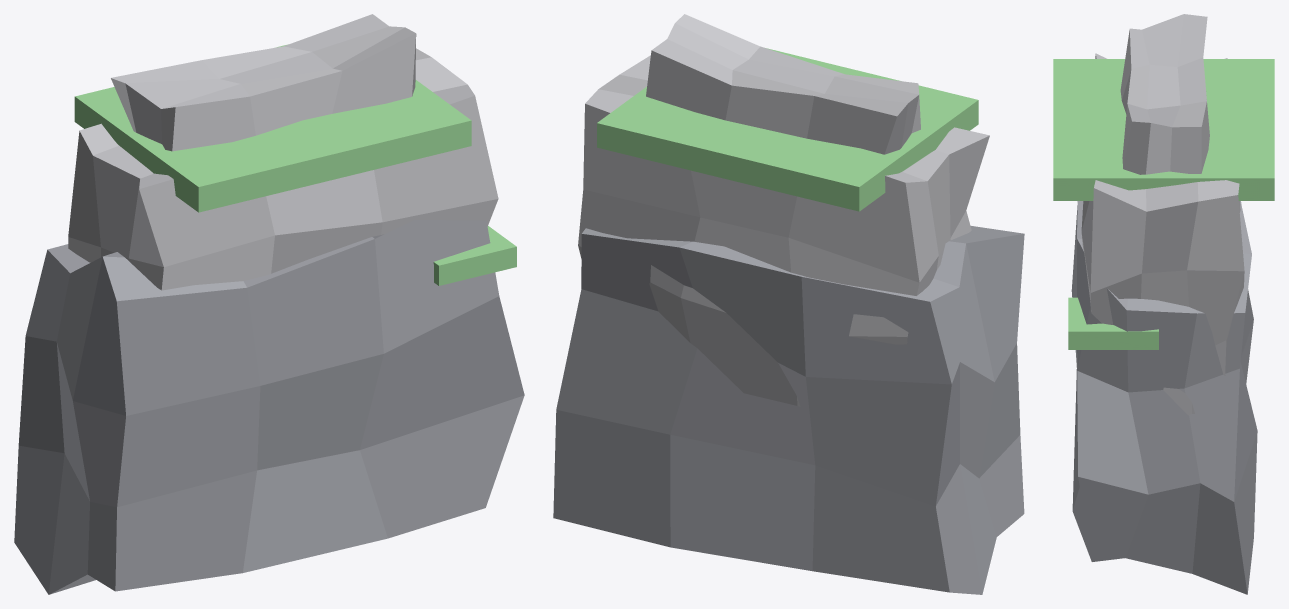
The model's file is ASTX_TERRAIN_CLIFF.glb.
3 renders of one model, left to right at view 1: azimuth 30°, elevation 25°; view 2: azimuth 150°, elevation 25°; view 3: azimuth 270°, elevation 25°, orthographic. The views are drawn at different scales.
Visible parts, largest first — view 1: ASTX_TERRAIN_CLIFF_base, ASTX_TERRAIN_CLIFF_mid, ASTX_TERRAIN_CLIFF_crown, ASTX_TERRAIN_CLIFF_lip, ASTX_TERRAIN_CLIFF_ledge; view 2: ASTX_TERRAIN_CLIFF_base, ASTX_TERRAIN_CLIFF_mid, ASTX_TERRAIN_CLIFF_crown, ASTX_TERRAIN_CLIFF_lip; view 3: ASTX_TERRAIN_CLIFF_base, ASTX_TERRAIN_CLIFF_mid, ASTX_TERRAIN_CLIFF_lip, ASTX_TERRAIN_CLIFF_crown, ASTX_TERRAIN_CLIFF_ledge.
Part boxes in pixels (x1,y1,x2,y2): ASTX_TERRAIN_CLIFF_base: [14, 220, 524, 594]; ASTX_TERRAIN_CLIFF_mid: [68, 48, 498, 290]; ASTX_TERRAIN_CLIFF_crown: [111, 14, 416, 151]; ASTX_TERRAIN_CLIFF_lip: [74, 44, 471, 212]; ASTX_TERRAIN_CLIFF_ledge: [433, 226, 516, 285]; ASTX_TERRAIN_CLIFF_base: [553, 226, 1024, 594]; ASTX_TERRAIN_CLIFF_mid: [578, 55, 989, 406]; ASTX_TERRAIN_CLIFF_crown: [646, 14, 920, 154]; ASTX_TERRAIN_CLIFF_lip: [597, 48, 978, 211]; ASTX_TERRAIN_CLIFF_base: [1071, 201, 1257, 594]; ASTX_TERRAIN_CLIFF_mid: [1081, 53, 1244, 415]; ASTX_TERRAIN_CLIFF_lip: [1053, 59, 1274, 200]; ASTX_TERRAIN_CLIFF_crown: [1120, 14, 1209, 174]; ASTX_TERRAIN_CLIFF_ledge: [1068, 297, 1158, 349].
Bounding box in the file's own units: 8.56 × 9.81 × 4.4.
